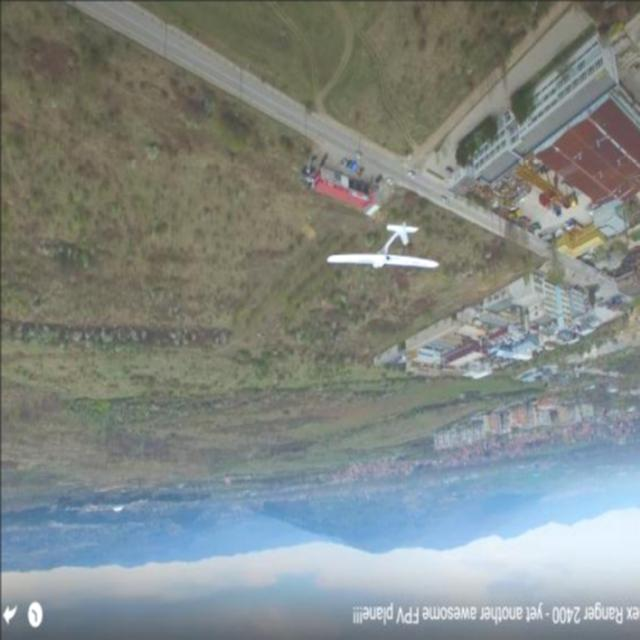plane: (326, 220, 440, 270)
